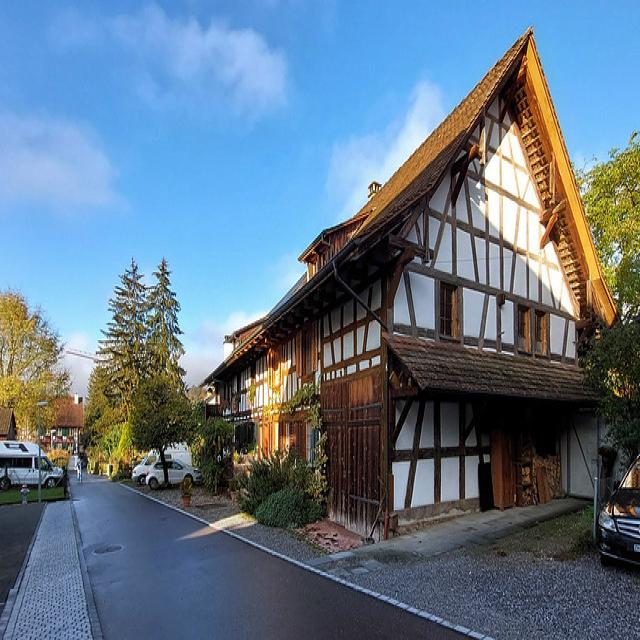Normal_building: (189, 32, 624, 548)
